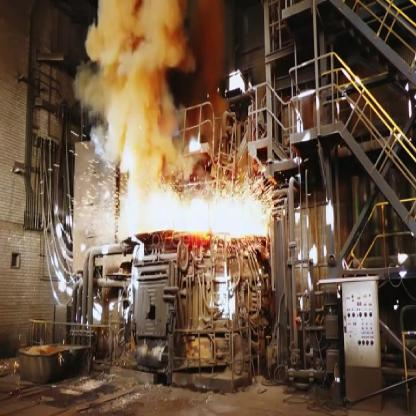fire: (132, 185, 273, 250)
smoke: (74, 0, 196, 201)
